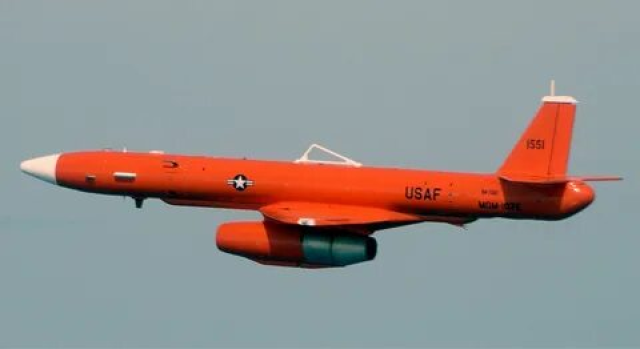military drone: (19, 79, 623, 269)
